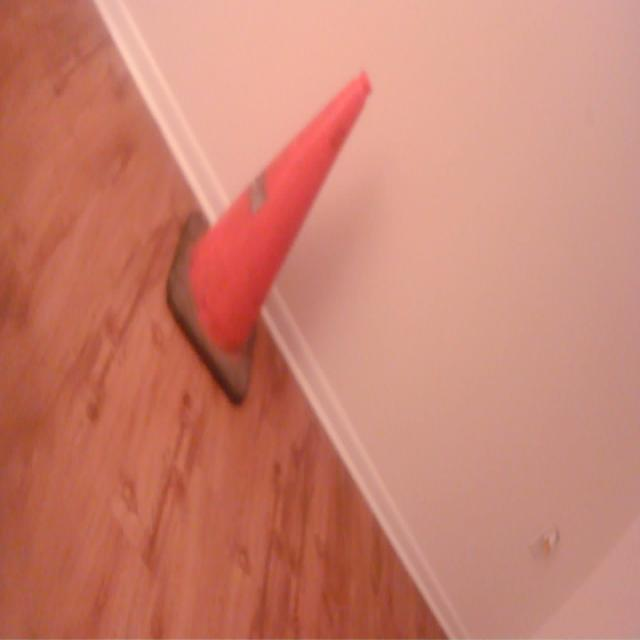traffic cone: (163, 68, 380, 414)
